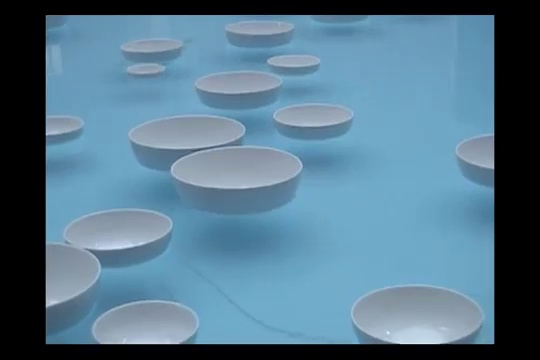bowl: (170, 146, 303, 213), (350, 284, 485, 343), (127, 115, 247, 169), (63, 208, 174, 265), (46, 242, 101, 327), (92, 300, 200, 342), (195, 70, 282, 109), (273, 103, 354, 140), (455, 133, 494, 187), (225, 20, 295, 50), (120, 38, 184, 62), (45, 116, 84, 145), (267, 55, 321, 75), (126, 63, 167, 78)
